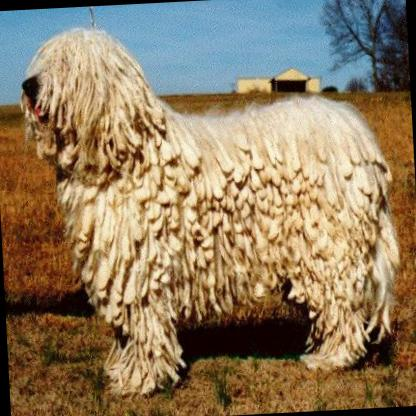komondor: (14, 10, 406, 402)
